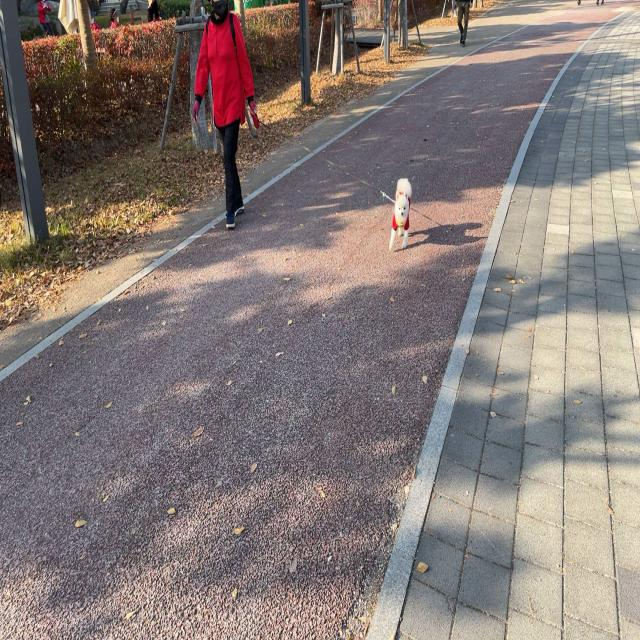Leashed_Dog: (224, 91, 413, 252)
